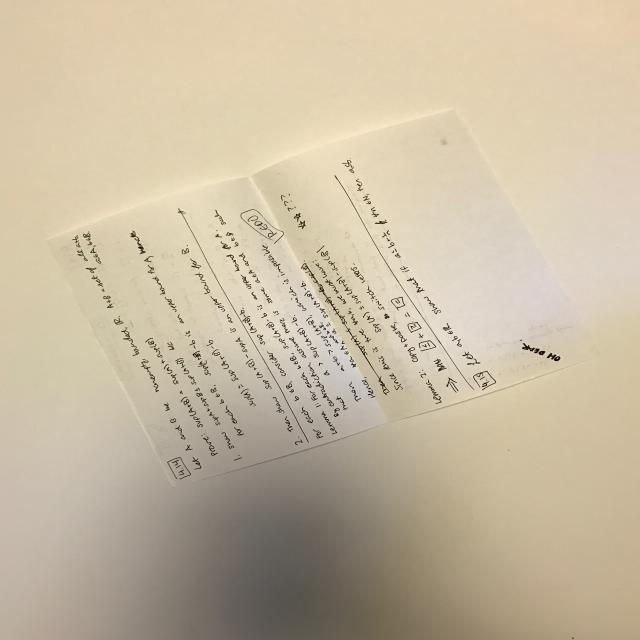paper: (49, 108, 581, 500)
